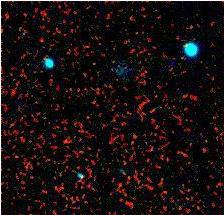star: (158, 49, 188, 79)
